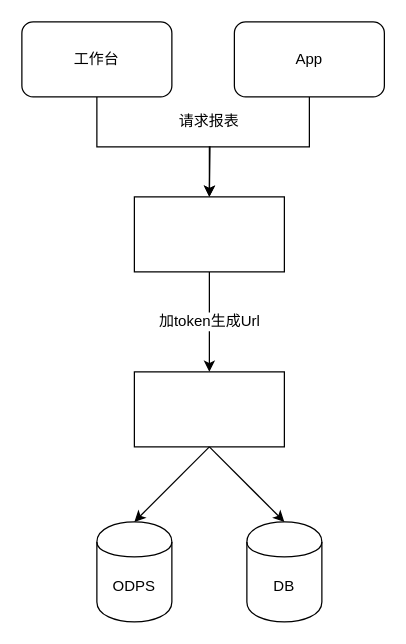
The diagram is 406 pixels wide and 644 high, and some of its shapes have lost their labels. Here are the shapes that lost their labels. From the top down, the centre of each, then its label:
the point at 208,234: 服务端 参数处理+路由
the point at 208,409: FBI报表
